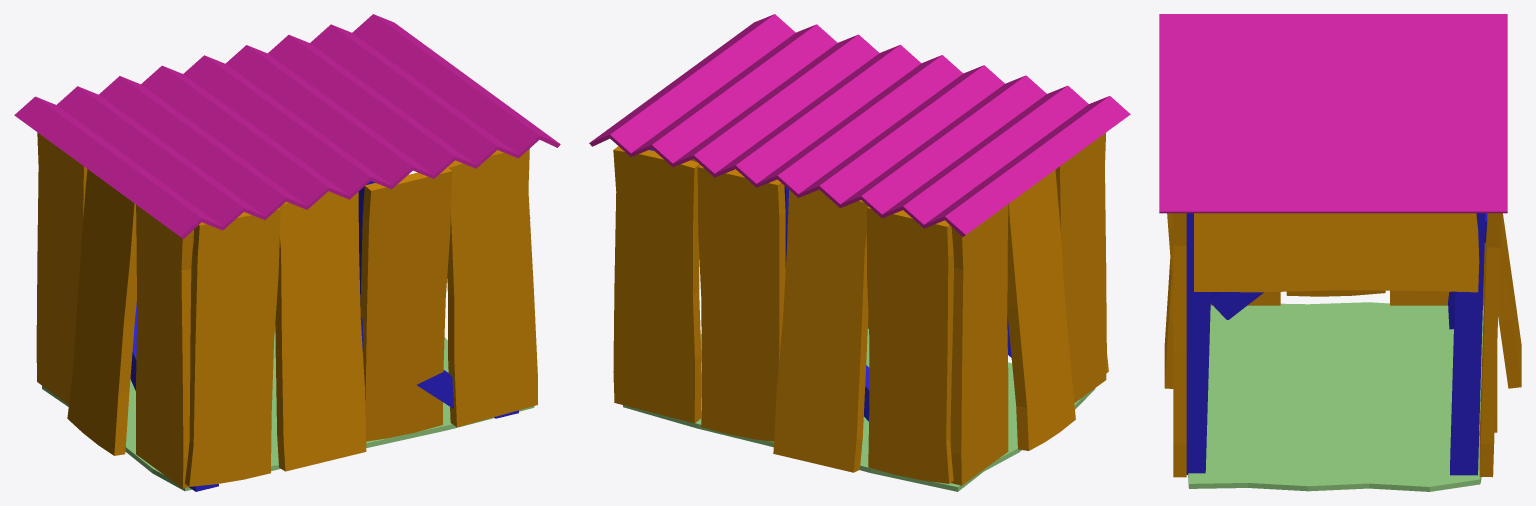
The model's file is HundeHuette.fbx.
3 views of the same model, side by side, from view 1: azimuth 30°, elevation 25°; view 2: azimuth 150°, elevation 25°; view 3: azimuth 270°, elevation 25° (orthographic). The views are drawn at different scales.
Visible parts, largest first — view 1: Hundehuette; view 2: Hundehuette; view 3: Hundehuette.
Boxes of the visible parts, x1,y1,x2,y2 form: Hundehuette: (14, 14, 560, 491); Hundehuette: (589, 14, 1130, 491); Hundehuette: (1159, 14, 1521, 491).
Bounding box in the file's own units: 522 × 368 × 406.
